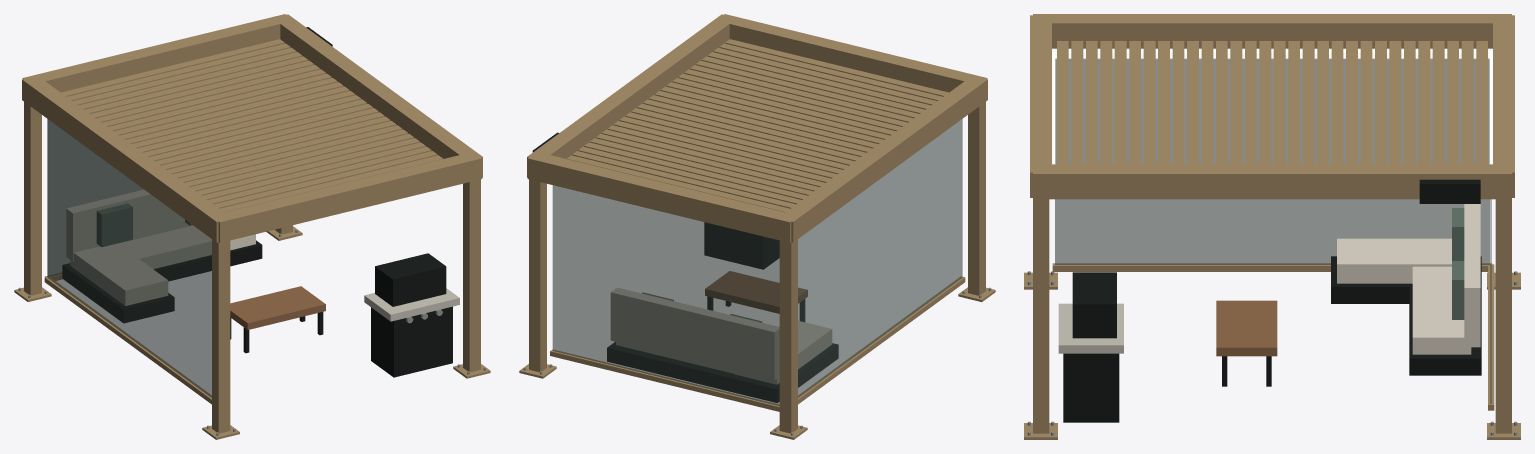
Rendered from coordinatez-axis-10x13-sand.glb.
The picture shows the model from 3 angles, left to right: view 1: azimuth 30°, elevation 25°; view 2: azimuth 150°, elevation 25°; view 3: azimuth 270°, elevation 25°; orthographic projection. The views are drawn at different scales.
Visible parts, largest first — view 1: Left motorized wall, Structural post (×3), Front motor beam, Left beam, Rear drainage beam, Right beam, Rear motorized wall, BBQ cabinet, Chaise cushion, Sofa back, BBQ hood, Sofa seat (+34 smaller); view 2: Rear motorized wall, Left motorized wall, Structural post (×3), Sofa back, Rear drainage beam, Left beam, Front motor beam, Right beam, Sofa base, BBQ cabinet, Coffee table top, Rear wall bottom rail (+31 smaller); view 3: Left motorized wall, Right beam, Left beam, Structural post (×2), Chaise cushion, Sofa seat, BBQ cabinet, Coffee table top, Front motor beam, Rear drainage beam, BBQ hood, Left wall bottom rail (+38 smaller).
Part boxes in pixels (x1,y1,x2,y2): Left motorized wall: (47, 119, 211, 397); Structural post (×3): (24, 102, 480, 433); Front motor beam: (211, 153, 482, 242); Left beam: (22, 79, 230, 242); Rear drainage beam: (22, 14, 293, 92); Right beam: (275, 14, 482, 177); Rear motorized wall: (48, 120, 142, 276); BBQ cabinet: (371, 306, 452, 377); Chaise cushion: (70, 243, 167, 305); Sofa back: (66, 190, 189, 260); BBQ hood: (375, 253, 446, 306); Sofa seat: (119, 225, 255, 268); Rear motorized wall: (552, 185, 779, 405); Left motorized wall: (798, 119, 962, 397); Structural post (×3): (529, 102, 985, 433); Sofa back: (611, 288, 779, 380); Rear drainage beam: (527, 154, 798, 242); Left beam: (779, 79, 987, 242); Front motor beam: (716, 14, 987, 92); Right beam: (527, 14, 733, 177); Sofa base: (607, 342, 799, 402); BBQ cabinet: (704, 222, 779, 269); Coffee table top: (705, 271, 807, 313); Rear wall bottom rail: (550, 349, 779, 411); Left motorized wall: (1055, 58, 1489, 264); Right beam: (1033, 164, 1511, 199); Left beam: (1033, 14, 1511, 48); Structural post (×2): (1033, 199, 1511, 433); Chaise cushion: (1337, 238, 1451, 283); Sofa seat: (1412, 266, 1471, 354); BBQ cabinet: (1063, 353, 1119, 422); Coffee table top: (1216, 300, 1277, 356); Front motor beam: (1030, 15, 1051, 197); Rear drainage beam: (1493, 15, 1514, 197); BBQ hood: (1072, 272, 1116, 338); Left wall bottom rail: (1052, 263, 1492, 271).
Size of the model in its own units: 3.37 by 2.49 by 4.25.
